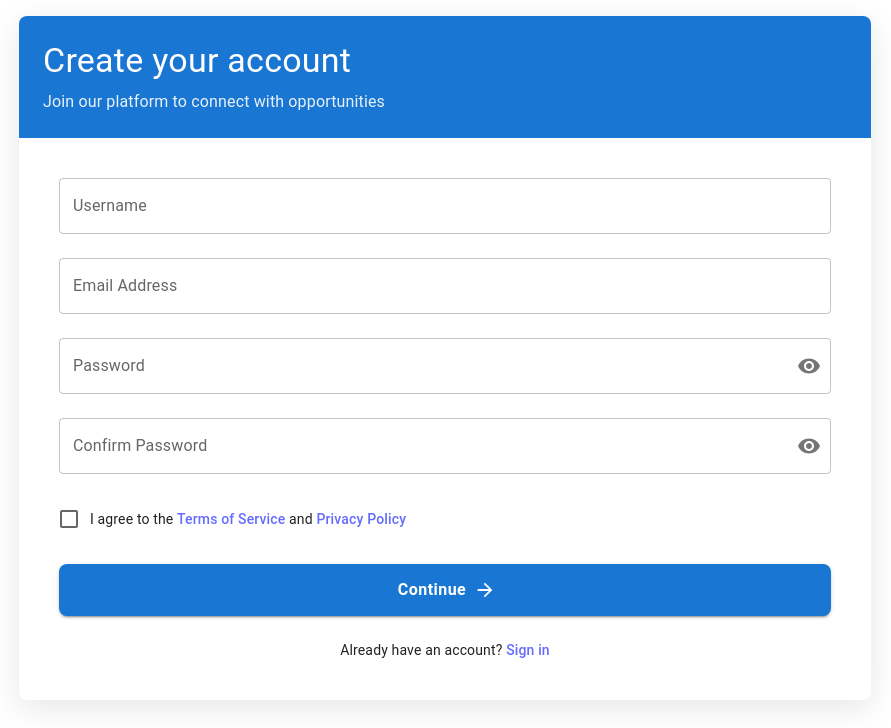
it: RegisterPage › navigates to user type selection on valid credentials submission
Type "testuser" into the field labelled "Username". click: (445, 206)
box: left=59, top=178, right=831, bottom=234
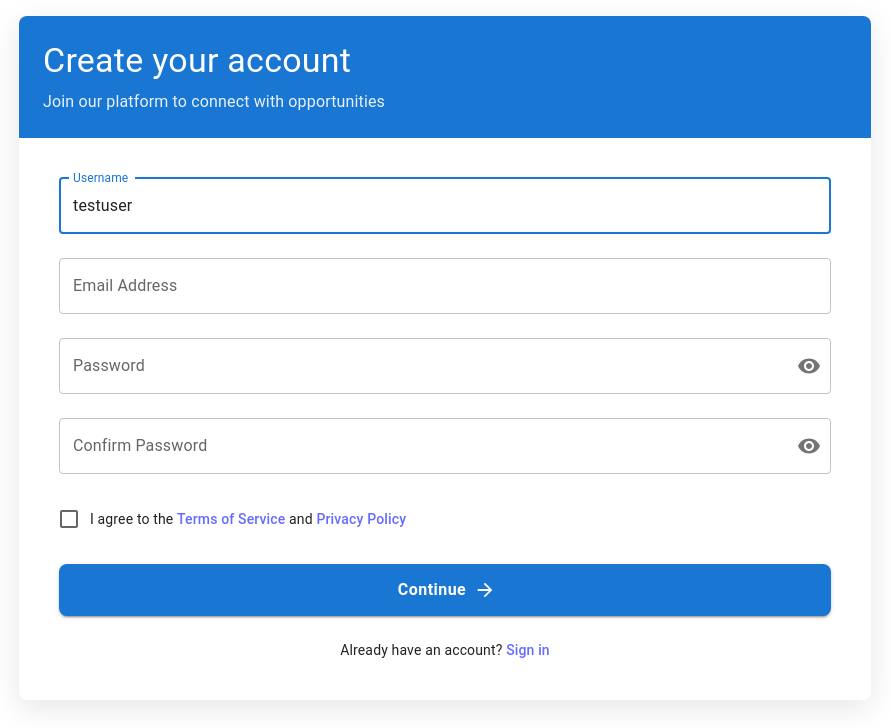
Type "test@example.com" into the field labelled "Email Address". click: (445, 286)
box: left=59, top=258, right=831, bottom=314
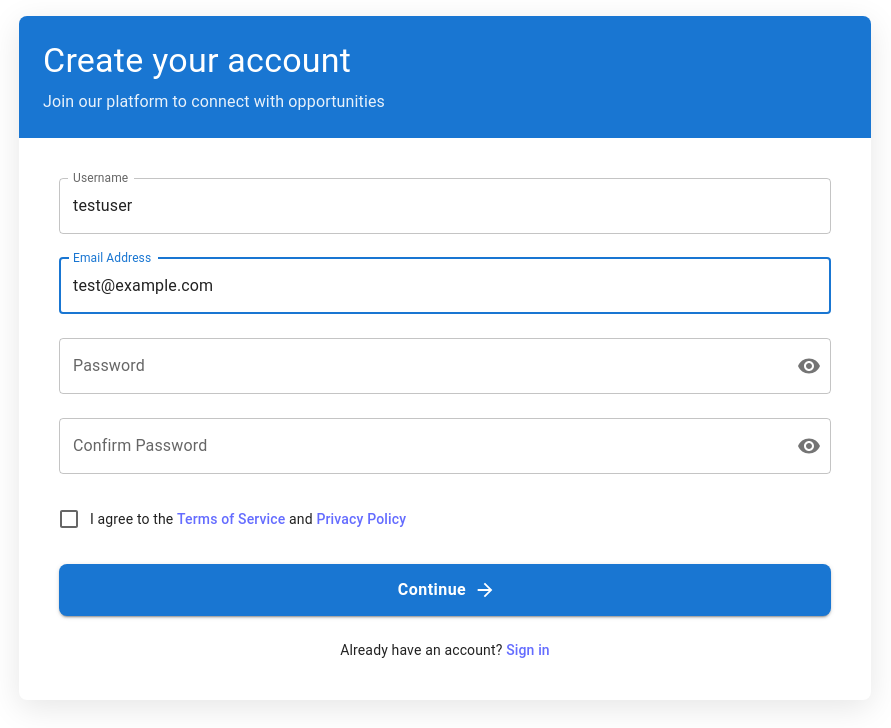
Type "Password123!" into the password field labelled "Password". click: (420, 366)
box: left=59, top=338, right=781, bottom=394
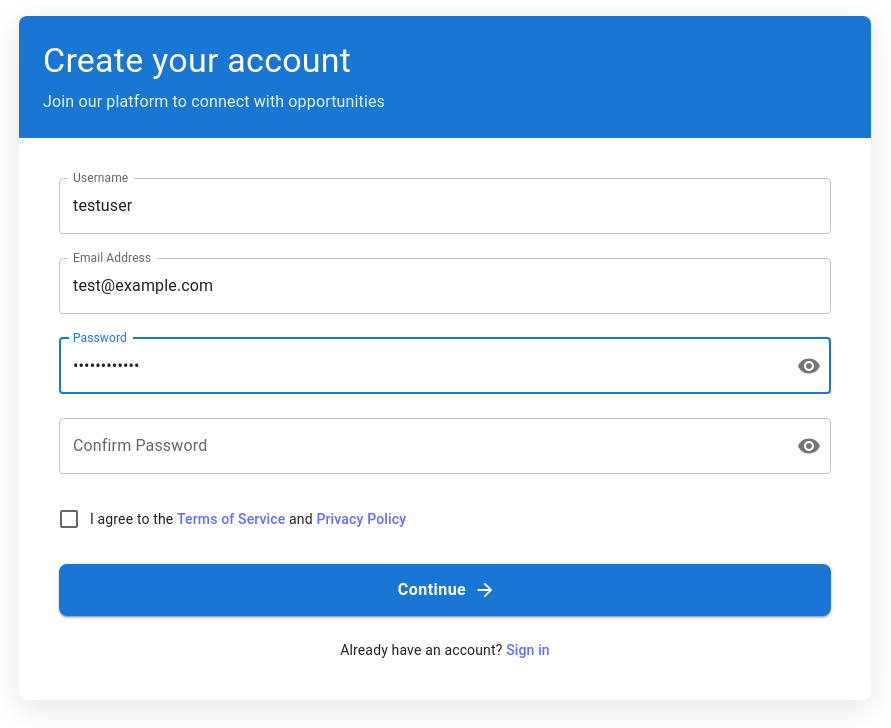
Type "Password123!" into the password field labelled "Confirm Password". click: (420, 446)
box: left=59, top=418, right=781, bottom=474
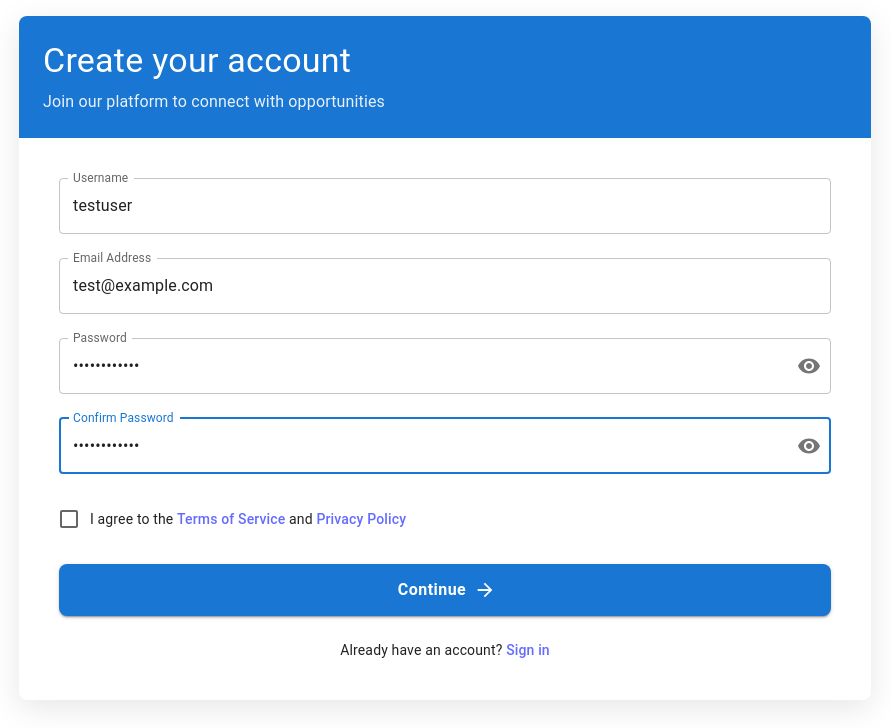
Click the checkbox labelled "I agree to the Terms of Service and Privacy Policy". click: (232, 519)
box: left=57, top=507, right=406, bottom=531
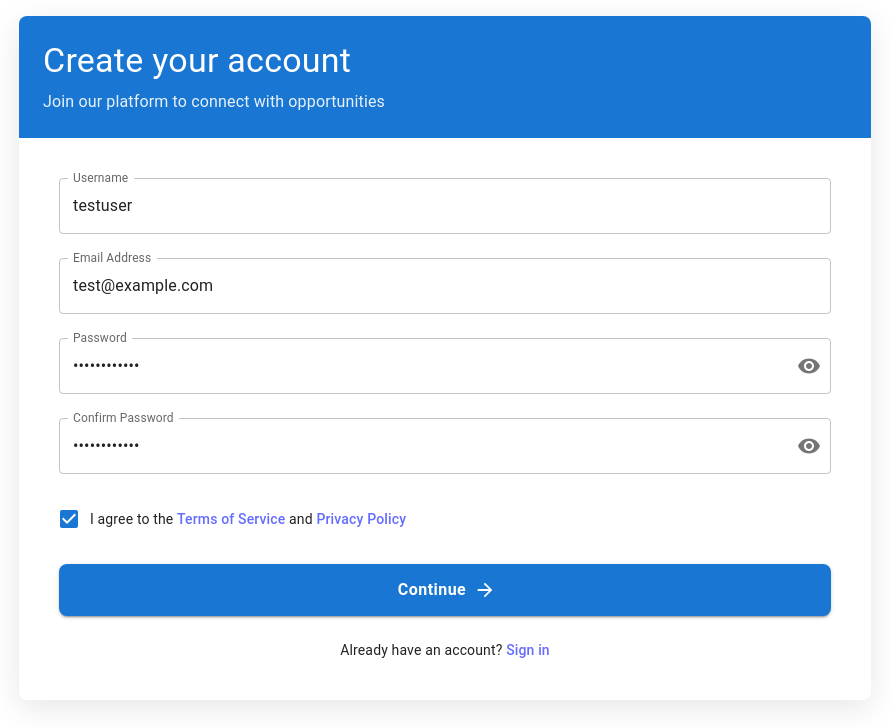
Click the button "Continue". click: (445, 590)
box: left=59, top=564, right=831, bottom=616
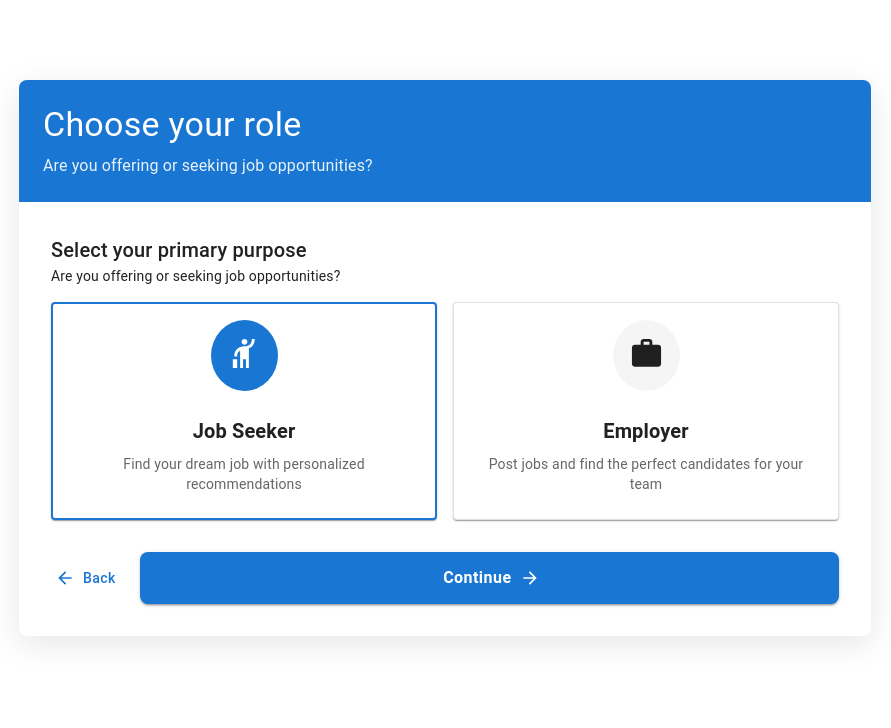
Result: the heading "Choose your role" is shown at left=43, top=104, right=302, bottom=144
Result: the heading "Select your primary purpose" is shown at left=51, top=238, right=307, bottom=262
